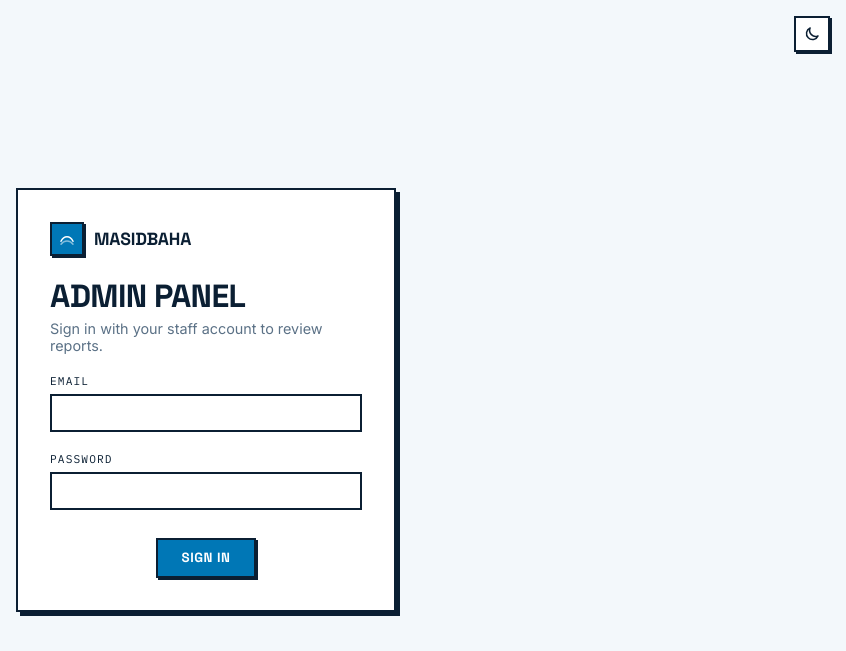
Scenario: LoginPageComponent › explains rate limiting when the API gives no message
This screenshot has width=846, height=651.
Type "a@test.local" into the field named "email" at (206, 413), box [50,394,362,432]
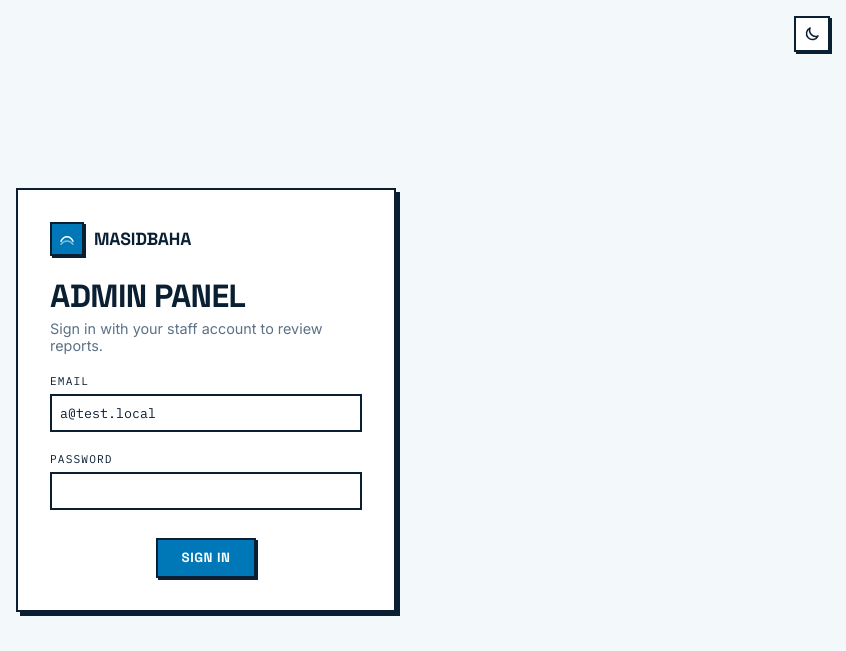
Type "x" into the password field named "password" at (206, 490), box [50,472,362,510]
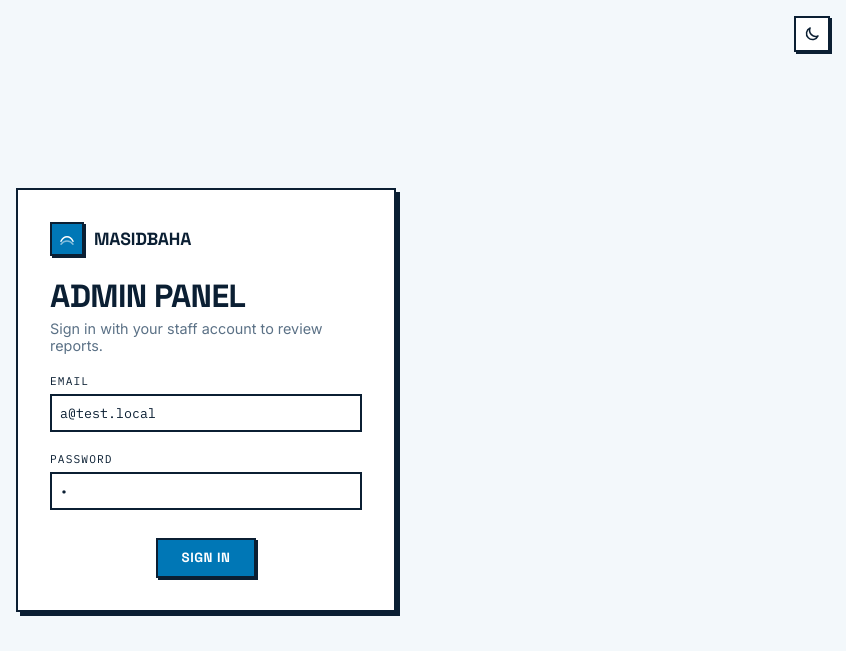
Submit the form, box [16,188,396,612]
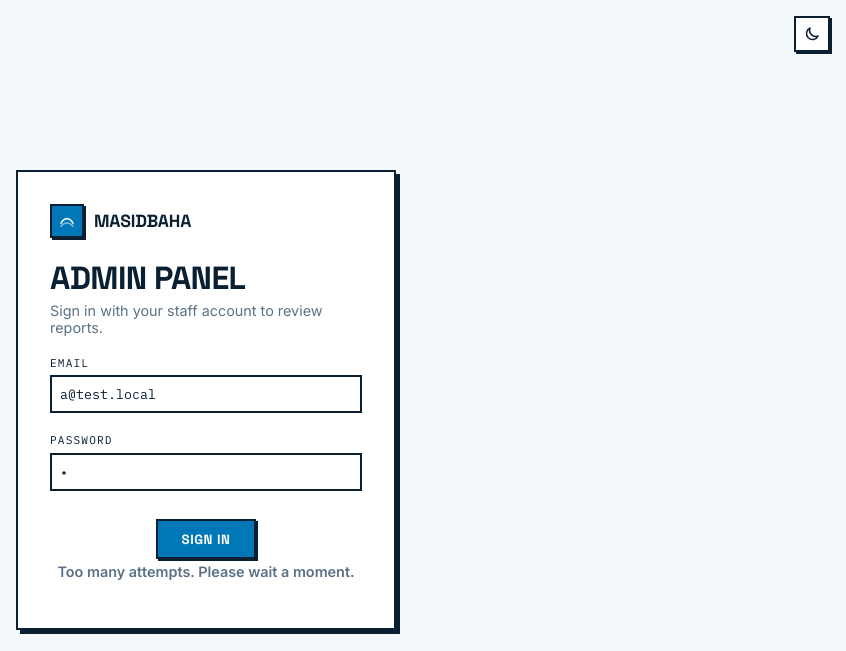
Result: the message "Too many attempts. Please wait a moment." is shown at [50,563,362,580]
